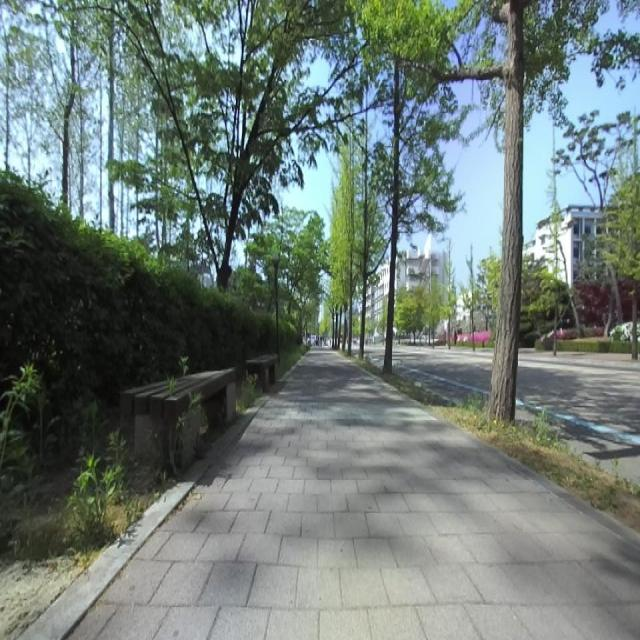sidewalk: (72, 349, 640, 639)
